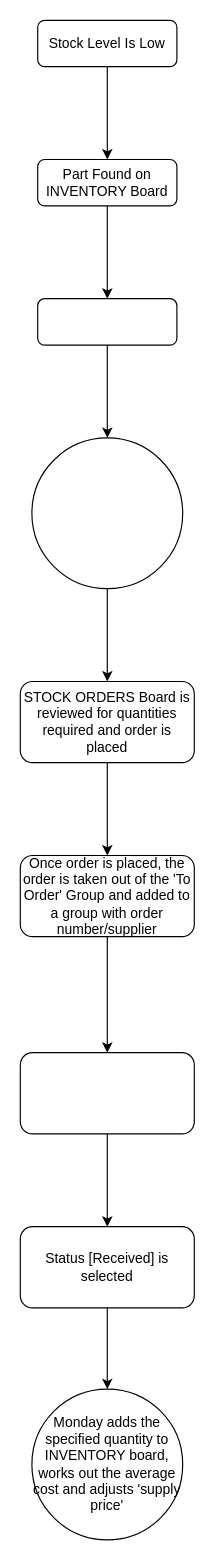
This 215x1560 diagram has some shape labels left out. The centre of each missing label's shape, as x and y in pixels:
INVENTORY Board adds pulse to STOCK ORDERS Board, in top group: [107,513]
Status [Add To Order List] is selected: [107,321]
Stock is received and quantities added to STOCK ORDERS Board: [106,1093]
